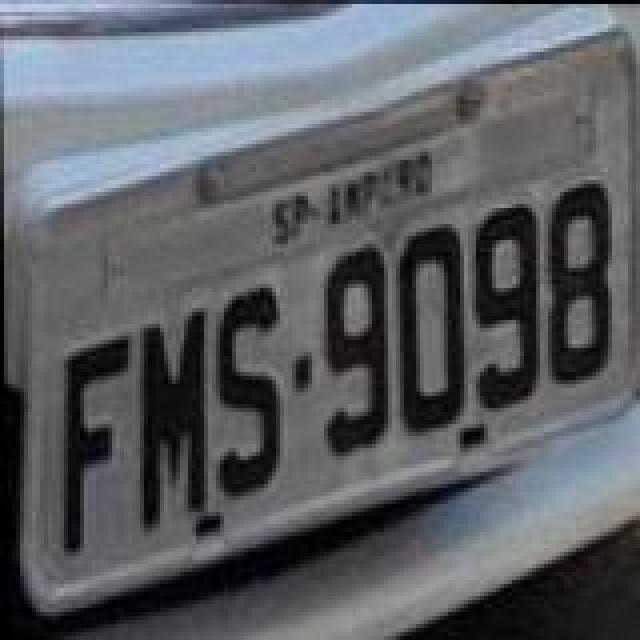8: (544, 178, 616, 390)
9: (318, 242, 394, 458), (472, 200, 544, 412)
F: (56, 326, 132, 554)
M: (134, 304, 210, 536)
O: (390, 222, 466, 438)
S: (210, 286, 286, 502)
